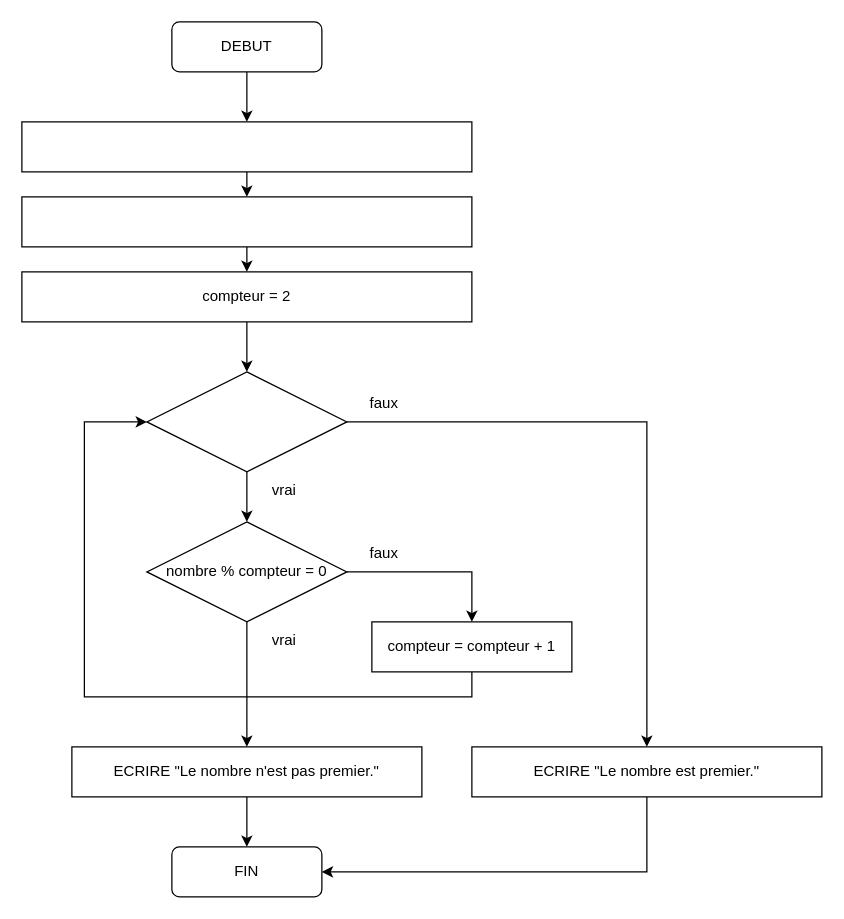
This 844x919 diagram has some shape labels left out. The shapes that lost their labels are listed below. From the top down, each one's box as (x1, y1, x2, y2) in pixels, then its label:
(21, 121, 472, 172): ECRIRE "Veuillez saisir le nombre entier : "
(21, 196, 472, 247): LIRE nombre
(146, 371, 347, 472): compteur < nombre
